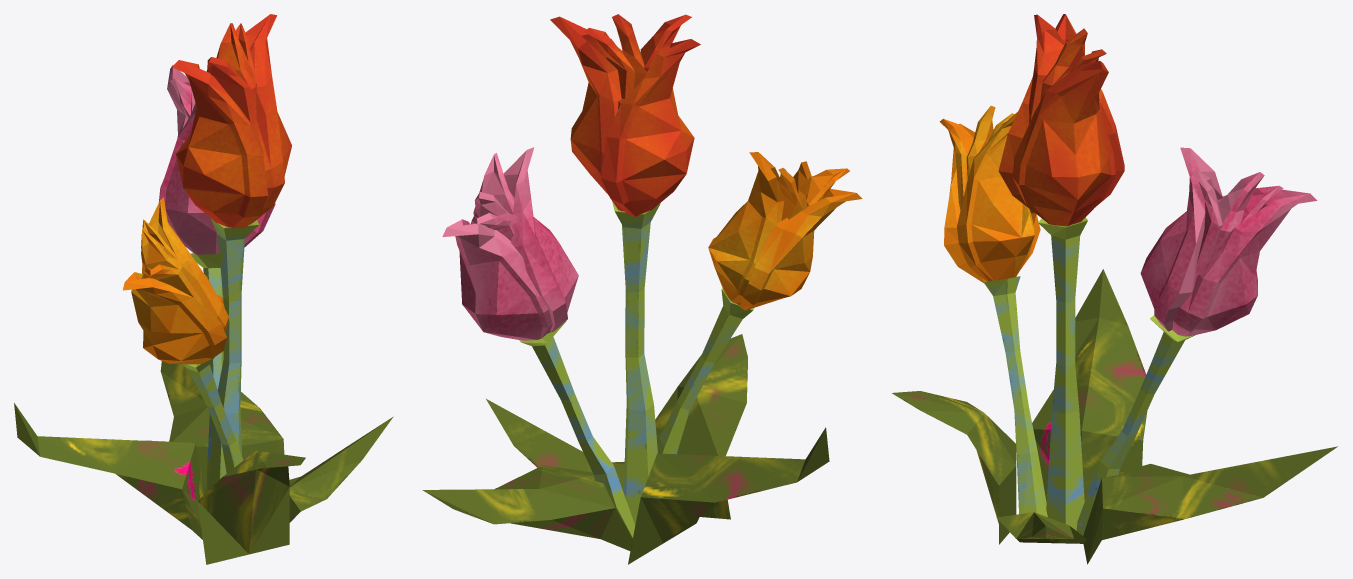
Rendered from FLOR 03.fbx.
The picture shows the model from 3 angles, left to right: view 1: azimuth 30°, elevation 25°; view 2: azimuth 150°, elevation 25°; view 3: azimuth 270°, elevation 25°; orthographic projection. The views are drawn at different scales.
Parts seen in each view (by area): view 1: flower_4.012, flower_4.004, flower_4.009, flower_4.006, flower_4.010; view 2: flower_4.012, flower_4.004, flower_4.010, flower_4.006, flower_4.009; view 3: flower_4.012, flower_4.004, flower_4.006, flower_4.010, flower_4.009.
Part boxes in pixels (bbox=[...]): flower_4.012: bbox=[14, 361, 393, 564]; flower_4.004: bbox=[172, 14, 291, 228]; flower_4.009: bbox=[122, 197, 228, 364]; flower_4.006: bbox=[182, 218, 258, 492]; flower_4.010: bbox=[158, 65, 275, 254]; flower_4.012: bbox=[422, 334, 829, 564]; flower_4.004: bbox=[550, 14, 700, 216]; flower_4.010: bbox=[442, 147, 578, 340]; flower_4.006: bbox=[519, 201, 754, 537]; flower_4.009: bbox=[708, 152, 862, 310]; flower_4.012: bbox=[892, 269, 1337, 564]; flower_4.004: bbox=[998, 14, 1124, 226]; flower_4.006: bbox=[984, 217, 1195, 535]; flower_4.010: bbox=[1140, 147, 1317, 336]; flower_4.009: bbox=[939, 105, 1040, 283].
Bounding box in the file's own units: 116 × 155 × 124.
